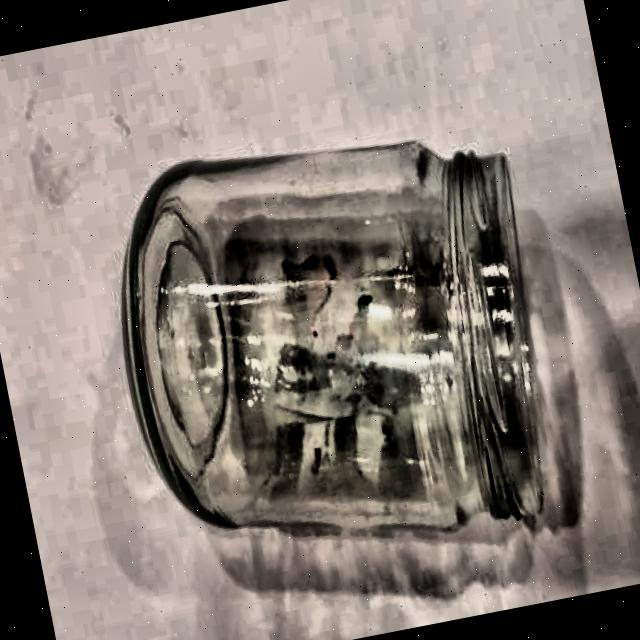glass: (82, 95, 572, 594)
